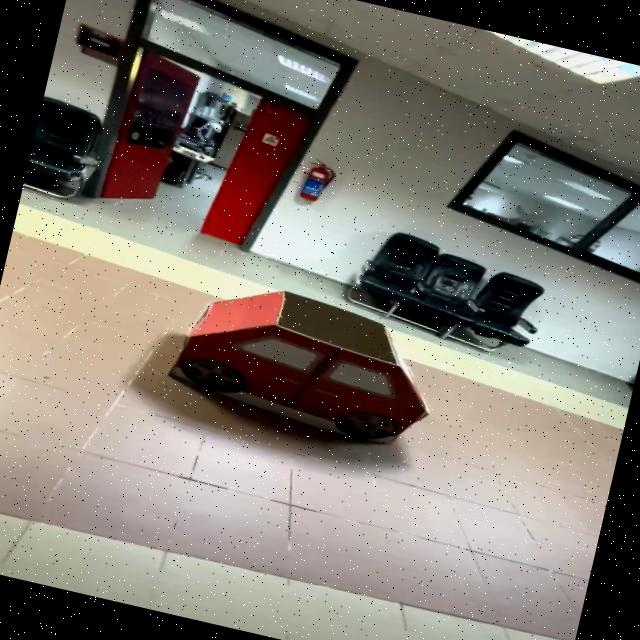red_car: (130, 258, 480, 475)
